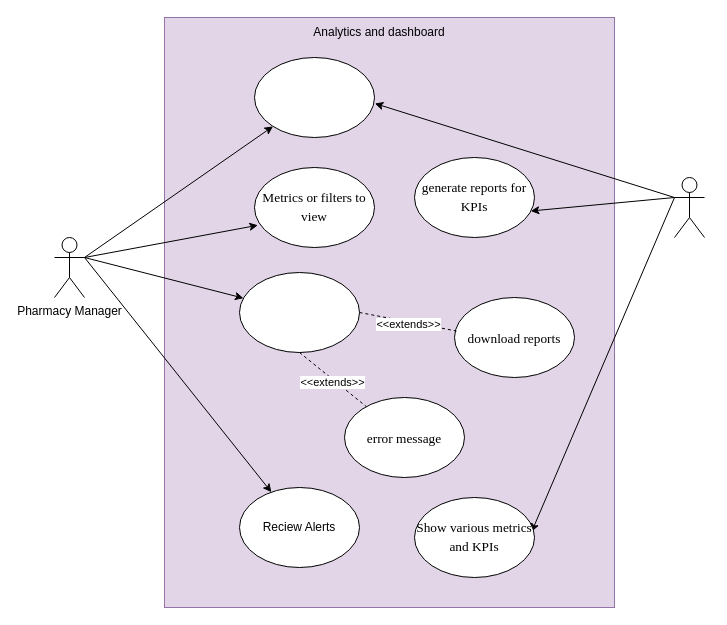
Some shapes in this 727 by 625 pixel diagram are drawn without their labels. Here are the shapes that lost their labels. From the top down, the centre of each, then its label:
point 314,97: Show dashboard
point 689,207: System
point 299,312: visualizations reports for KPIs
